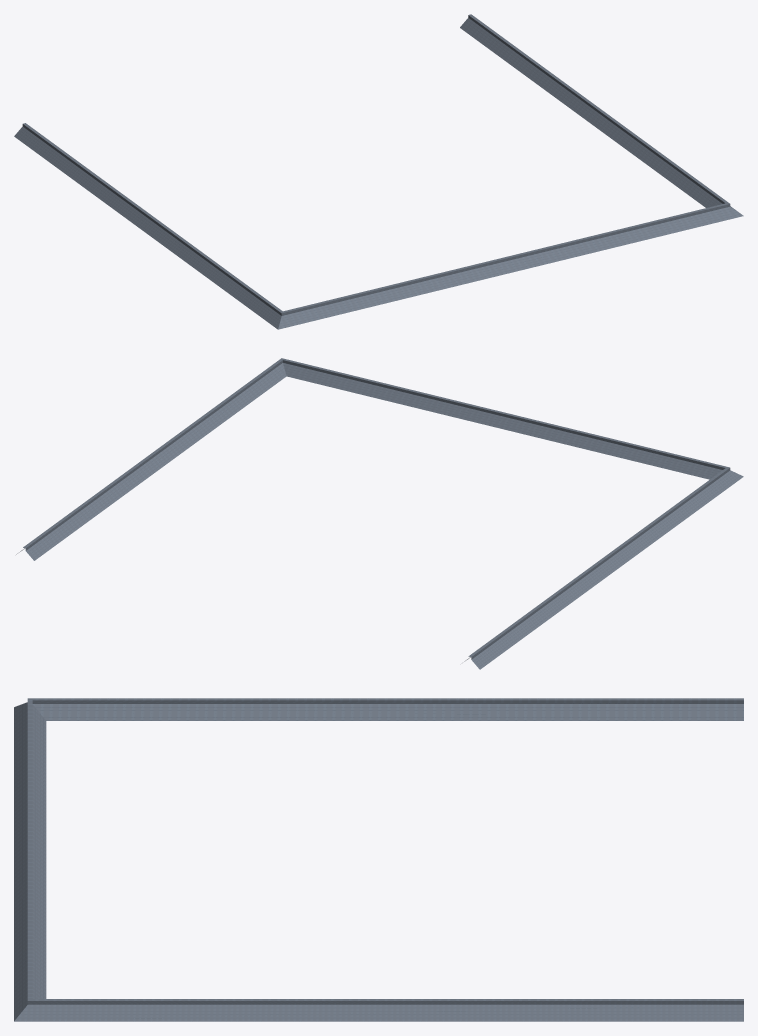
Rendered from kd_stage_135b75_0_18.glb.
3 views of the same model, one above another, from view 1: azimuth 30°, elevation 25°; view 2: azimuth 150°, elevation 25°; view 3: azimuth 270°, elevation 25° (orthographic). The views are drawn at different scales.
Visible parts, largest first — view 1: kd_stage_135b75_0_18; view 2: kd_stage_135b75_0_18; view 3: kd_stage_135b75_0_18.
Boxes of the visible parts, left/top/right/bottom form: kd_stage_135b75_0_18: left=14, top=14, right=743, bottom=329; kd_stage_135b75_0_18: left=16, top=358, right=743, bottom=669; kd_stage_135b75_0_18: left=14, top=698, right=743, bottom=1021.
Bounding box in the file's own units: 18.39 × 0.4 × 18.05.
Materials: 1 (1 with a texture image).
